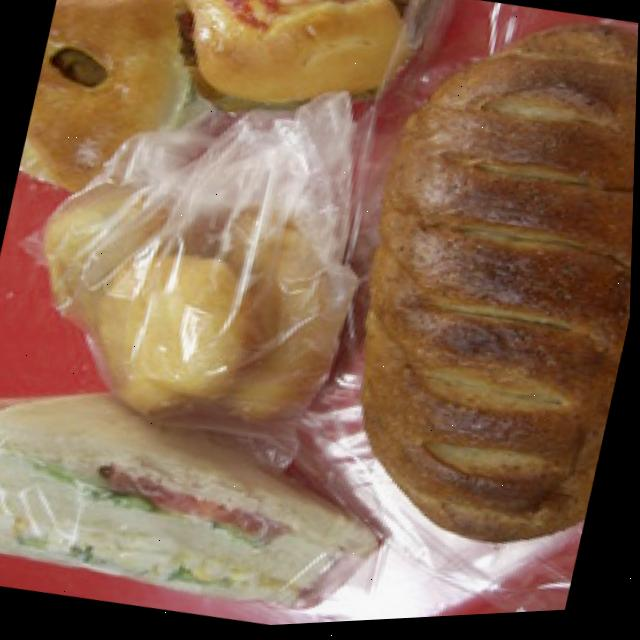三明治: (152, 0, 467, 174)
